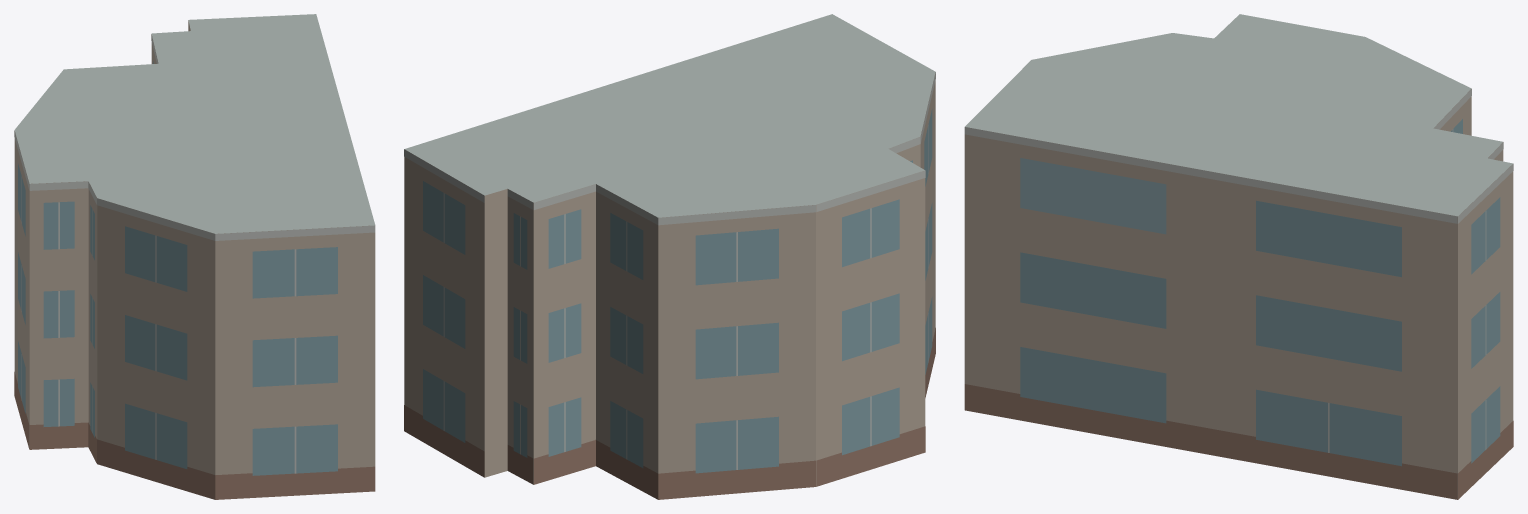
File: survey-upis-32657598.glb
3 views of the same model, side by side, from view 1: azimuth 30°, elevation 25°; view 2: azimuth 150°, elevation 25°; view 3: azimuth 270°, elevation 25° (orthographic). The views are drawn at different scales.
Parts seen in each view (by area): view 1: survey-upis-32657598.tmp; view 2: survey-upis-32657598.tmp; view 3: survey-upis-32657598.tmp.
Part boxes in pixels (x1,y1,x2,y2): survey-upis-32657598.tmp: [14, 14, 375, 499]; survey-upis-32657598.tmp: [404, 14, 935, 499]; survey-upis-32657598.tmp: [964, 14, 1513, 499].
Bounding box in the file's own units: 14.02 × 9.15 × 16.06.
